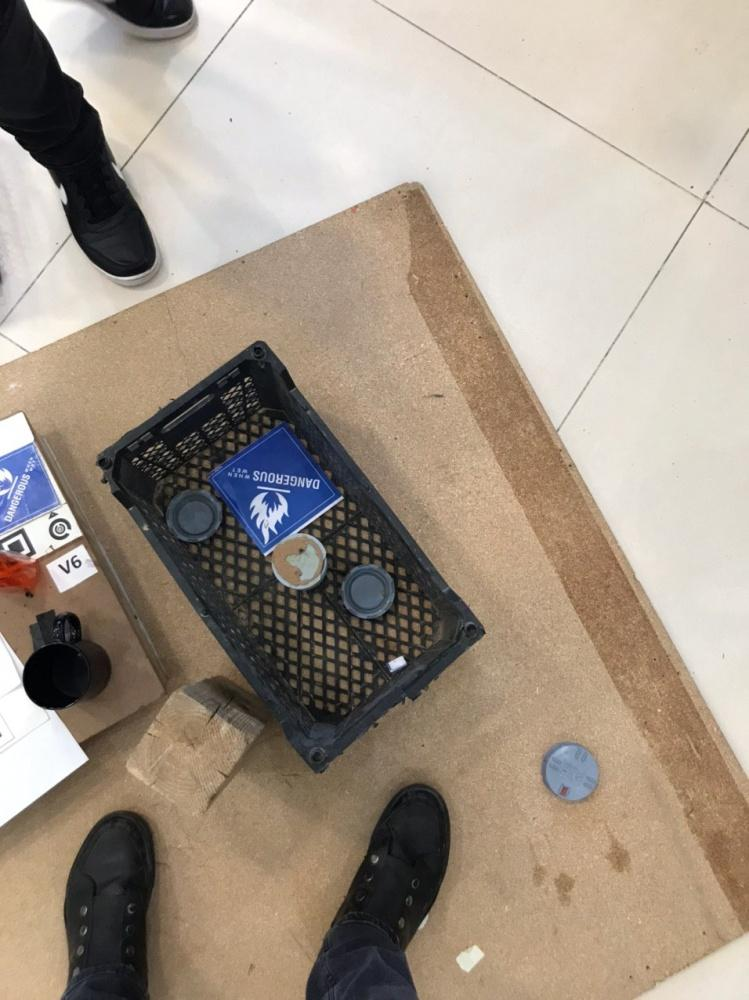dangerous-when-wet: (215, 426, 338, 549), (1, 443, 58, 531)
